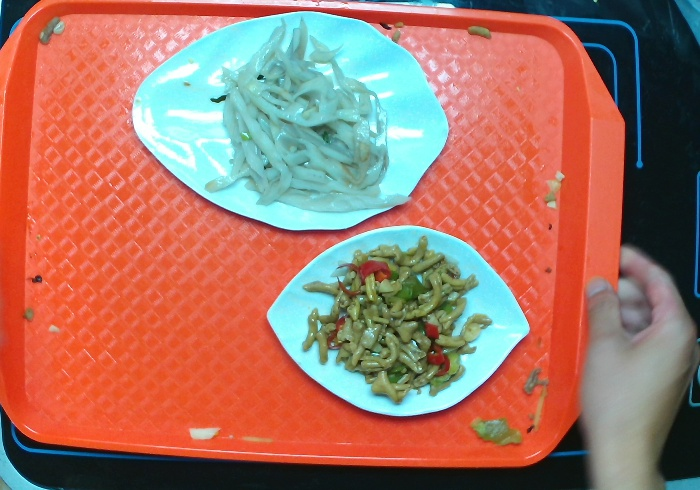RJxy-Bai_Ye_Pan: (130, 9, 451, 231)
RJxy-Da_Du_Pan: (265, 223, 532, 418)
